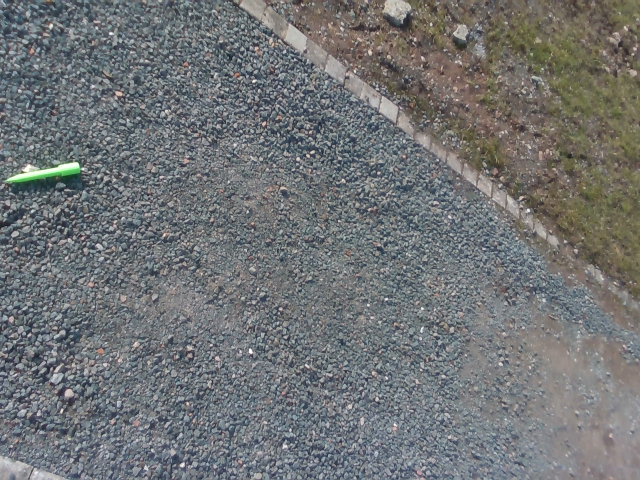Probe: (1, 158, 84, 189)
